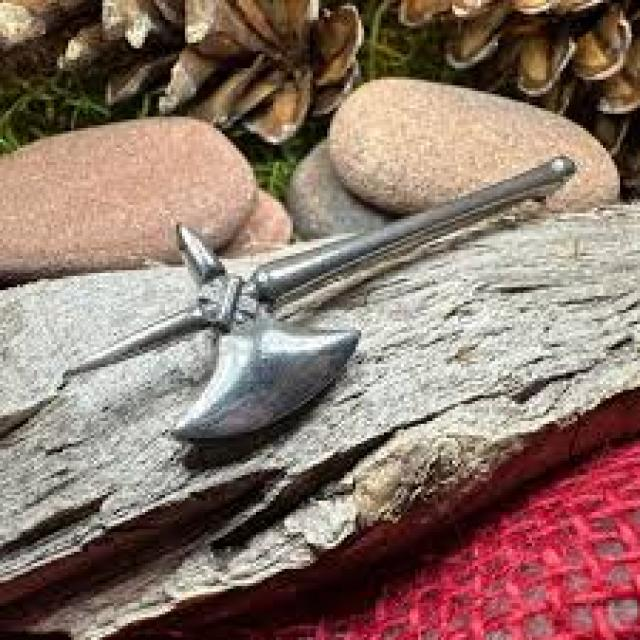Gun: (98, 143, 584, 439)
